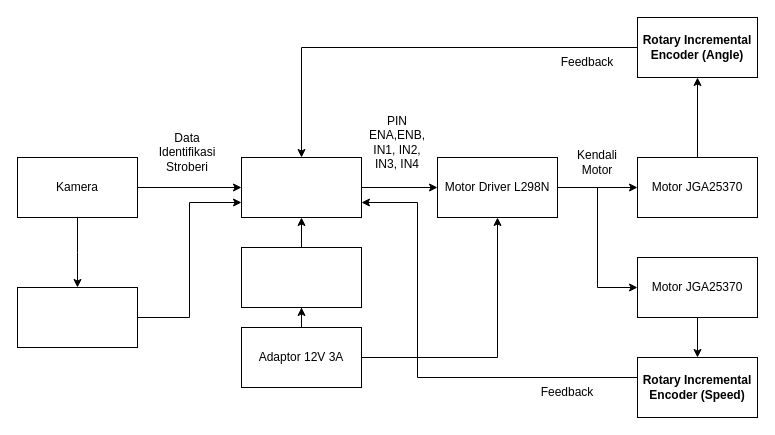
This 775x435 diagram has some shape labels left out. The shapes that lost their labels are listed below. From the top down, each one's box as (x1, y1, x2, y2) in pixels, then its label:
(240, 156, 362, 218): ARDUINO UNO R3
(240, 246, 362, 308): Modul Step-Down to 5V
(16, 286, 138, 348): Laptop
